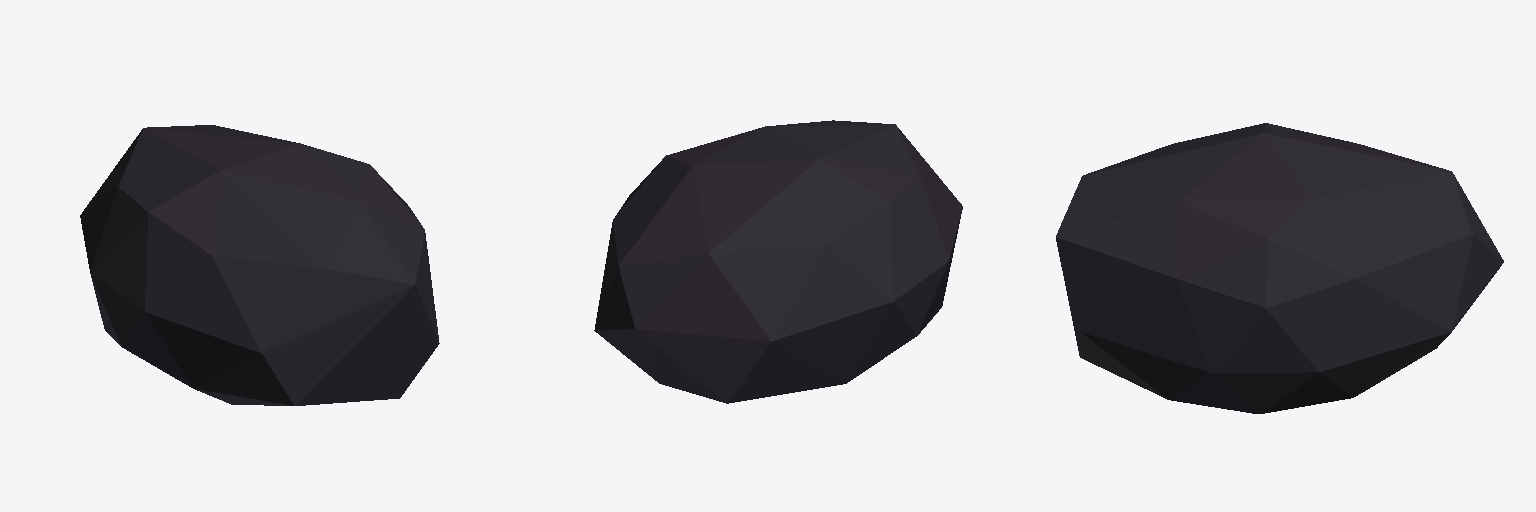
Rendered from pedra1.obj.
3 views of the same model, side by side, from view 1: azimuth 30°, elevation 25°; view 2: azimuth 150°, elevation 25°; view 3: azimuth 270°, elevation 25° (orthographic).
Parts seen in each view (by area): view 1: Esfera_geodésica; view 2: Esfera_geodésica; view 3: Esfera_geodésica.
Boxes of the visible parts, x1,y1,x2,y2 form: Esfera_geodésica: [80, 125, 439, 405]; Esfera_geodésica: [594, 120, 962, 403]; Esfera_geodésica: [1056, 123, 1503, 413].
Bounding box in the file's own units: 0.5373 × 0.3579 × 0.7145.